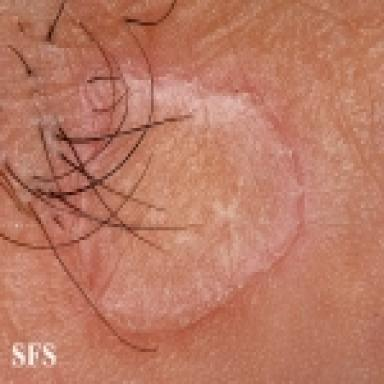Porokeratosis: (69, 64, 309, 345)
